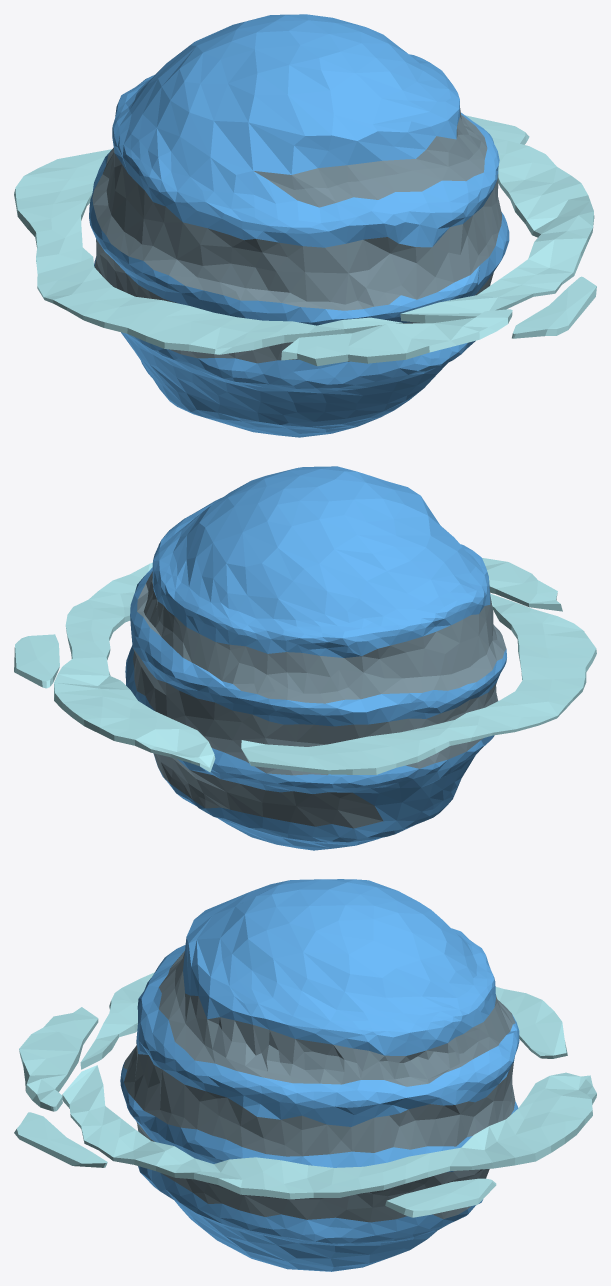
File: Planet_42.glb
3 views of the same model, one above another, from view 1: azimuth 30°, elevation 25°; view 2: azimuth 150°, elevation 25°; view 3: azimuth 270°, elevation 25° (orthographic). The views are drawn at different scales.
Visible parts, largest first — view 1: Planet_42; view 2: Planet_42; view 3: Planet_42.
Part boxes in pixels (bbox=[...]): Planet_42: bbox=[14, 14, 596, 437]; Planet_42: bbox=[14, 466, 596, 850]; Planet_42: bbox=[14, 879, 596, 1271].
Size of the model in its own units: 29.31 by 20.04 by 28.99.
1 material, 1 textured.
